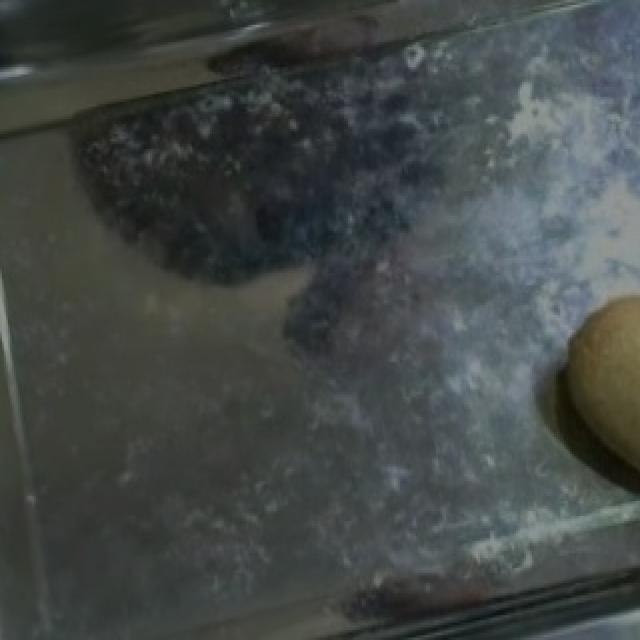Fruit: (538, 268, 640, 518)
